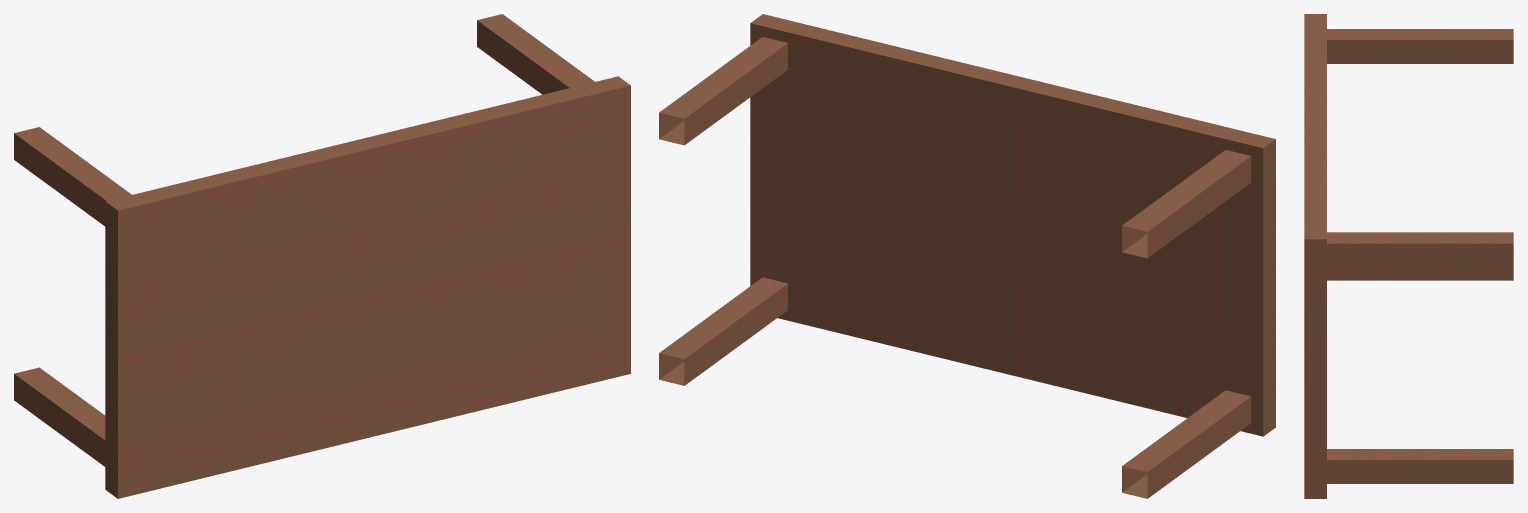
The model's file is big-table.obj.
3 renders of one model, left to right at view 1: azimuth 30°, elevation 25°; view 2: azimuth 150°, elevation 25°; view 3: azimuth 270°, elevation 25°, orthographic. The views are drawn at different scales.
Parts seen in each view (by area): view 1: Cube; view 2: Cube; view 3: Cube.
Part boxes in pixels (x1=…): Cube: x1=14, y1=14, x2=630, y2=498; Cube: x1=659, y1=14, x2=1275, y2=498; Cube: x1=1304, y1=14, x2=1513, y2=498.
Size of the model in its own units: 1.99 by 1.07 by 0.7825.
1 material, 1 textured.
